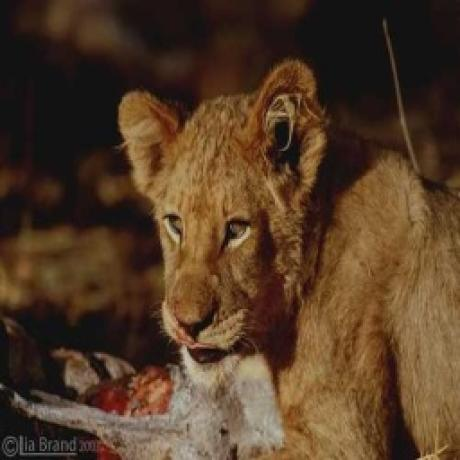Lion: (117, 59, 460, 460)
